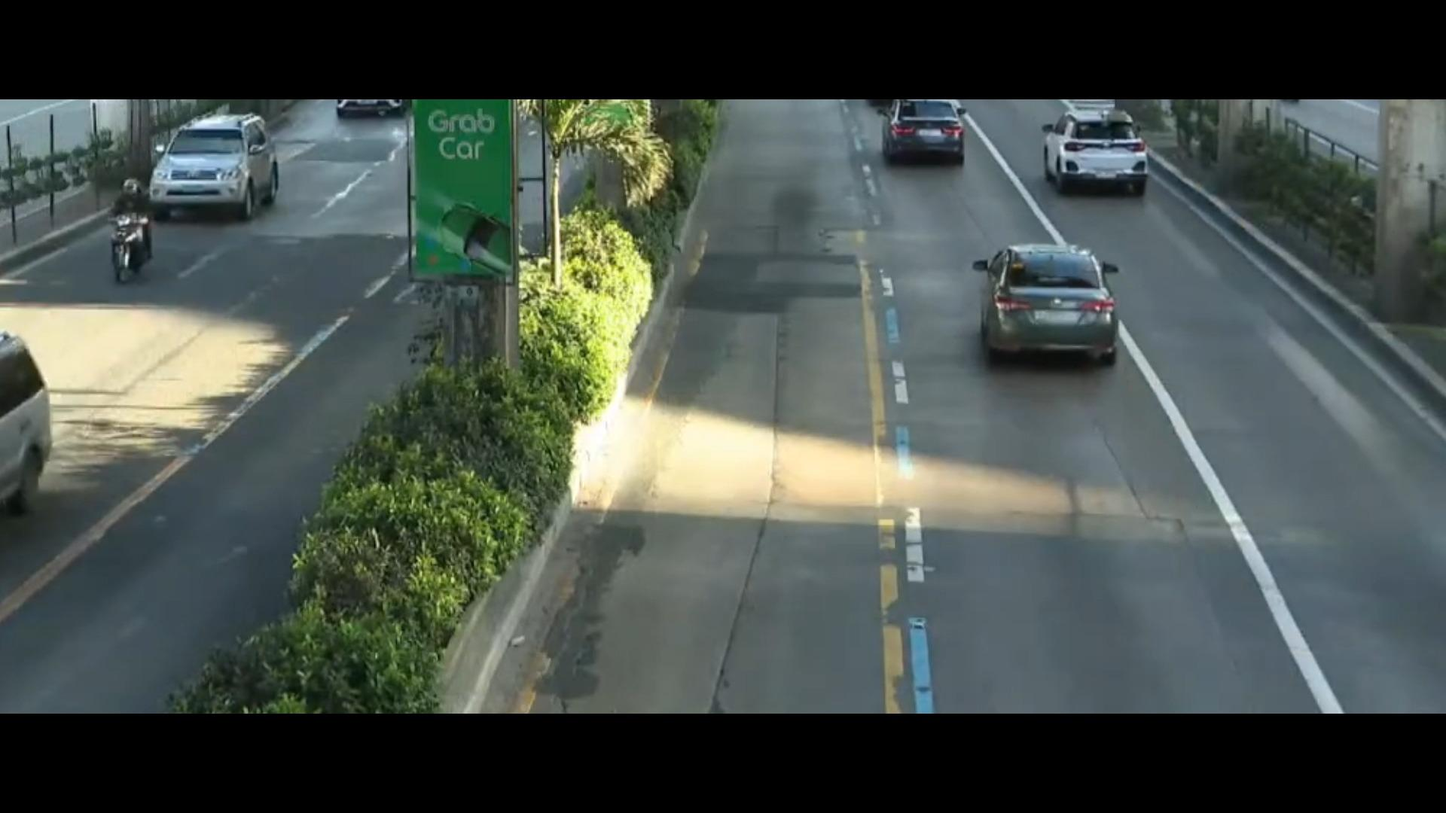Motorcycle: (93, 175, 167, 297)
SUV: (137, 119, 311, 226), (1027, 89, 1162, 196)
Sedan: (974, 236, 1143, 374), (866, 101, 975, 168)
